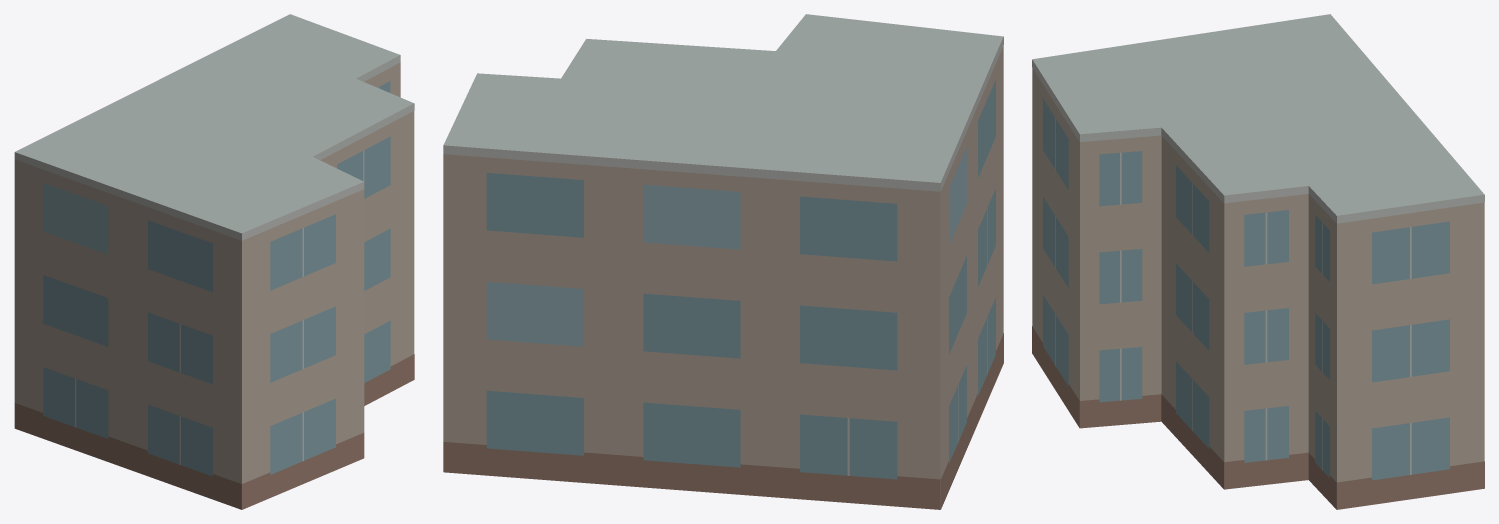
File: survey-upis-33029874.glb
The picture shows the model from 3 angles, left to right: view 1: azimuth 30°, elevation 25°; view 2: azimuth 150°, elevation 25°; view 3: azimuth 270°, elevation 25°; orthographic projection. The views are drawn at different scales.
Parts seen in each view (by area): view 1: survey-upis-33029874.tmp; view 2: survey-upis-33029874.tmp; view 3: survey-upis-33029874.tmp.
Part boxes in pixels (<box>): survey-upis-33029874.tmp: <box>14,14,414,509</box>; survey-upis-33029874.tmp: <box>443,14,1003,509</box>; survey-upis-33029874.tmp: <box>1032,14,1484,509</box>.
Size of the model in its own units: 13.48 by 9.15 by 12.78.
